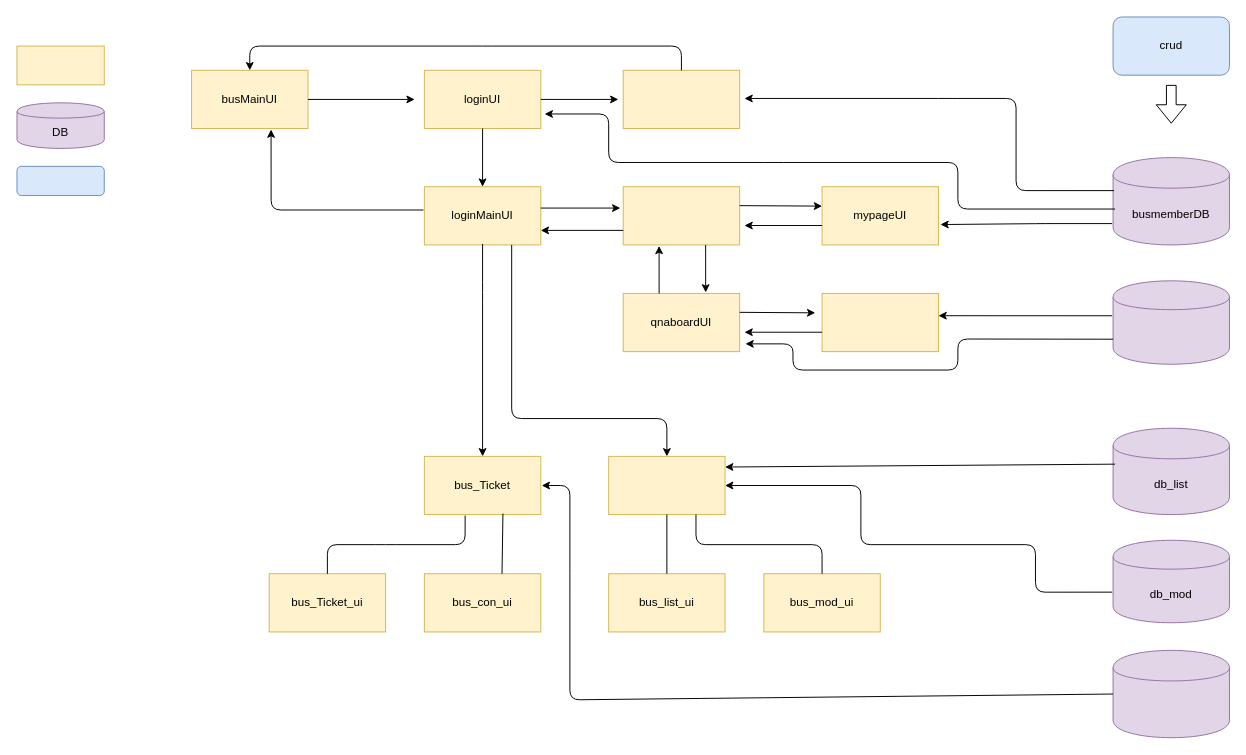
Some shapes in this 1246 by 755 pixel diagram are drawn without their labels. Here are the shapes that lost their labels. From the top down, the centre of each, then its label:
the point at 60,65: Module
the point at 681,99: memberUI
the point at 60,180: INTERFACE
the point at 681,215: boardMainUI
the point at 879,322: qnaWriteUI
the point at 1170,322: boardDB
the point at 666,485: bus_mod
the point at 1170,693: db_Ticket
